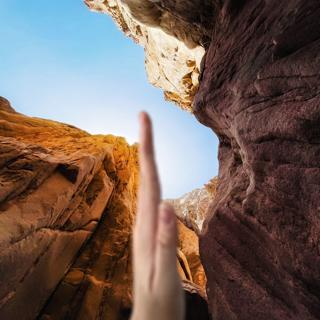Right: (118, 109, 196, 305)
